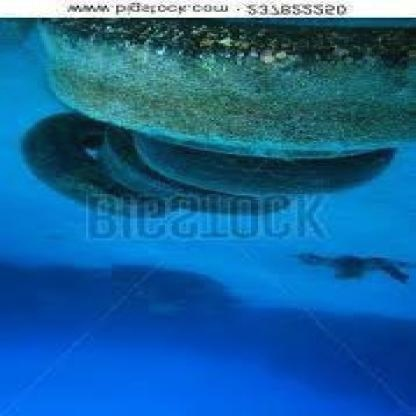tire: (30, 19, 416, 147), (86, 123, 265, 213), (121, 139, 409, 193), (19, 111, 151, 224)
